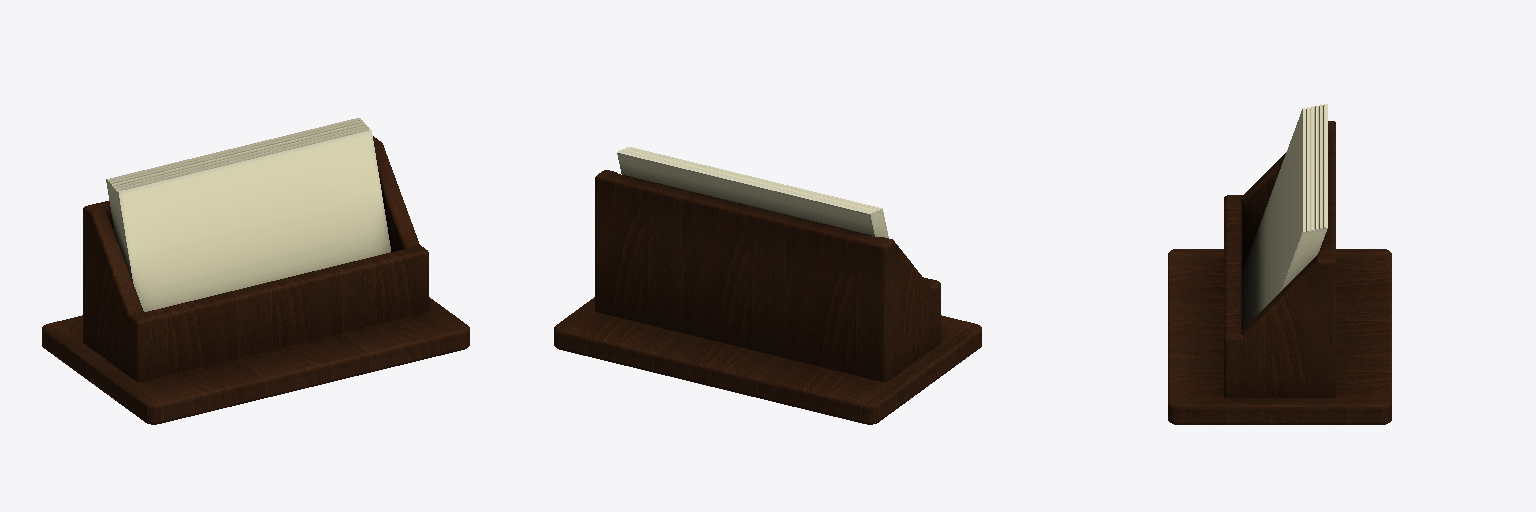
The picture shows the model from 3 angles: view 1: azimuth 30°, elevation 25°; view 2: azimuth 150°, elevation 25°; view 3: azimuth 270°, elevation 25°; orthographic projection.
Visible parts, largest first — view 1: korob, vizit; view 2: korob, vizit; view 3: korob, vizit.
Part boxes in pixels (bbox=[...]): korob: bbox=[42, 136, 469, 424]; vizit: bbox=[106, 118, 390, 311]; korob: bbox=[554, 170, 981, 424]; vizit: bbox=[617, 147, 888, 237]; korob: bbox=[1168, 121, 1391, 424]; vizit: bbox=[1243, 104, 1327, 328].
Bounding box in the file's own units: 0.1 × 0.0536 × 0.06.
Materials: 1 (1 with a texture image).